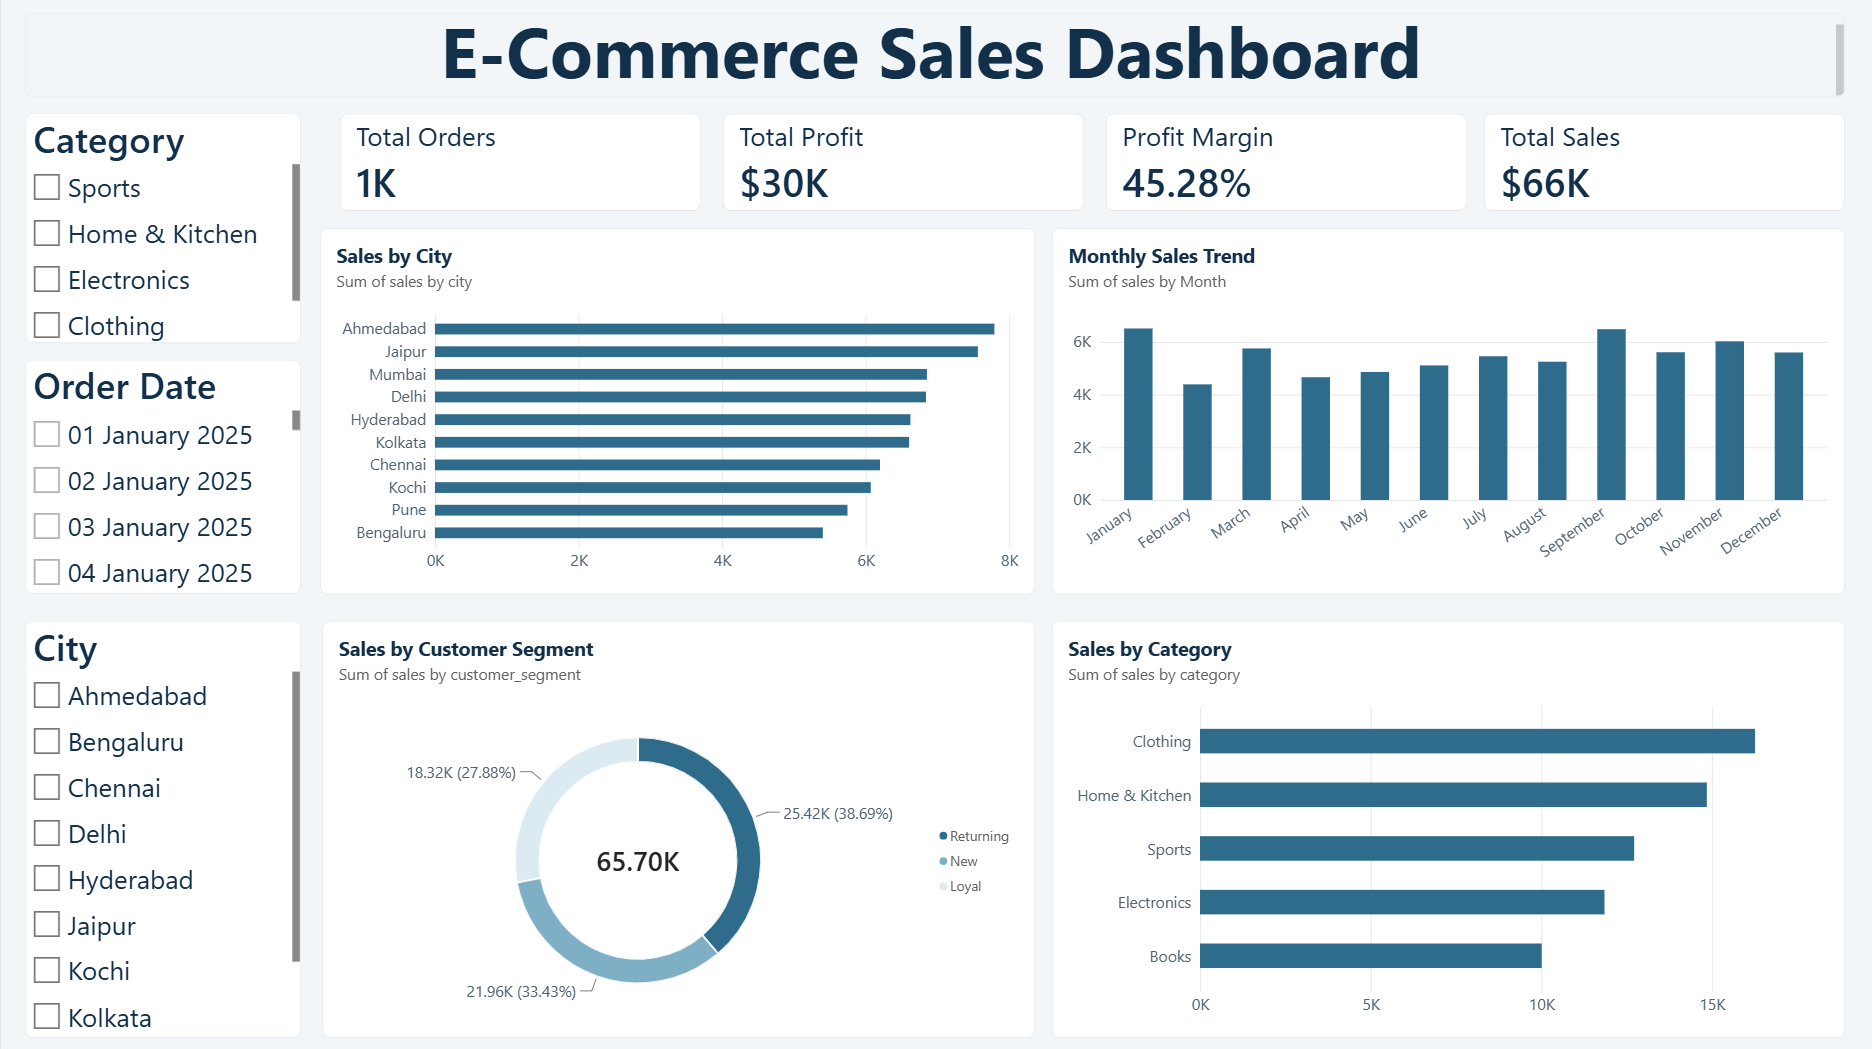

The dashboard page shown, as its layout file describes it:
{"tool":"powerbi","page":{"name":"Page 1","canvas":[1920,1080],"ordinal":0},"visuals":[{"type":"cardVisual","fields":{"Data":["ecommerce_sales.Total Sales"]},"box":[1520,120,370,100],"z":0},{"type":"cardVisual","fields":{"Data":["ecommerce_sales.Total Profit"]},"box":[740,120,370,100],"z":1},{"type":"cardVisual","fields":{"Data":["ecommerce_sales.Total Orders"]},"box":[347.5,120,370,100],"z":2},{"type":"clusteredColumnChart","title":"Monthly Sales Trend","fields":{"Category":["ecommerce_sales.order_date.Variation.Date Hierarchy.Month"],"Y":["Sum(ecommerce_sales.sales)"]},"box":[1077.5,237.5,812.5,375],"z":3},{"type":"clusteredBarChart","title":"Sales by Category","fields":{"Category":["ecommerce_sales.category"],"Y":["Sum(ecommerce_sales.sales)"]},"box":[1077.5,640,812.5,427.5],"z":4},{"type":"clusteredBarChart","title":"Sales by City","fields":{"Category":["ecommerce_sales.city"],"Y":["Sum(ecommerce_sales.sales)"]},"box":[327.5,237.5,732.5,375],"z":5},{"type":"donutChart","title":"Sales by Customer Segment","fields":{"Category":["ecommerce_sales.customer_segment"],"Y":["Sum(ecommerce_sales.sales)"]},"box":[330,640,730,427.5],"z":6},{"type":"slicer","fields":{"Values":["ecommerce_sales.category"]},"box":[25,120,282.5,235],"z":9},{"type":"slicer","fields":{"Values":["ecommerce_sales.order_date"]},"box":[25,372.5,282.5,240],"z":10},{"type":"slicer","fields":{"Values":["ecommerce_sales.city"]},"box":[25,640,282.5,427.5],"z":11},{"type":"cardVisual","fields":{"Data":["ecommerce_sales.Profit Margin"]},"box":[1132.5,120,370,100],"z":12},{"type":"textbox","box":[25,17.5,1865,85],"z":13}]}

Visuals, with their boxes in screenshot pixels (x1, y1, x2, y2), scaled from the page's 1920x1080 canvas onto the 1872x1049 screenshot:
cardVisual - ecommerce_sales.Total Sales: [1482,117,1843,214]
cardVisual - ecommerce_sales.Total Profit: [722,117,1082,214]
cardVisual - ecommerce_sales.Total Orders: [339,117,700,214]
"Monthly Sales Trend" clusteredColumnChart: [1051,231,1843,595]
"Sales by Category" clusteredBarChart: [1051,622,1843,1037]
"Sales by City" clusteredBarChart: [319,231,1034,595]
"Sales by Customer Segment" donutChart: [322,622,1034,1037]
slicer - ecommerce_sales.category: [24,117,300,345]
slicer - ecommerce_sales.order_date: [24,362,300,595]
slicer - ecommerce_sales.city: [24,622,300,1037]
cardVisual - ecommerce_sales.Profit Margin: [1104,117,1465,214]
textbox: [24,17,1843,100]
